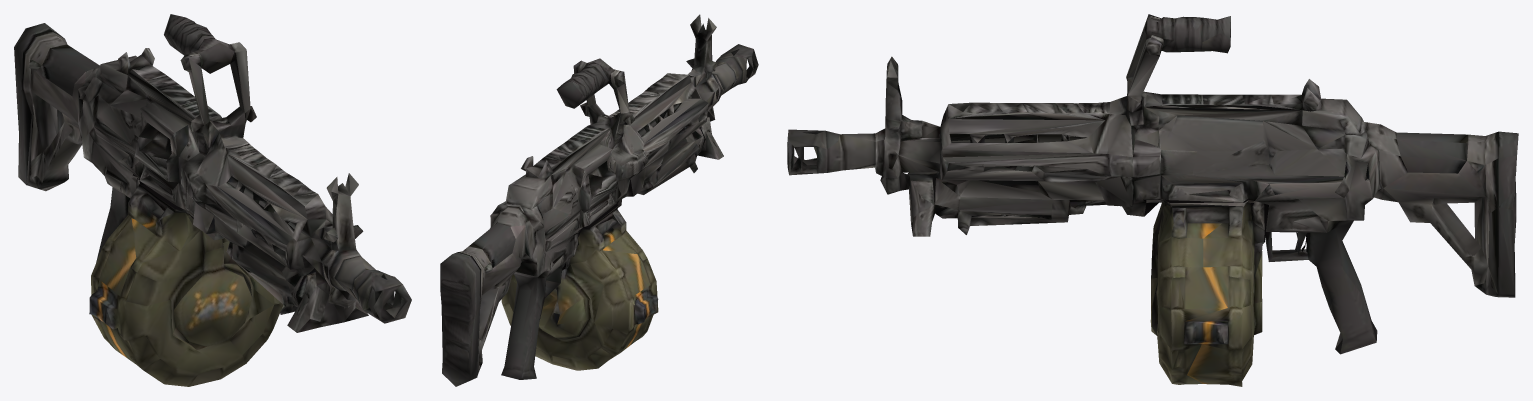
Rendered from wpn_lmg_bastion_tp.glb.
3 views of the same model, side by side, from view 1: azimuth 30°, elevation 25°; view 2: azimuth 150°, elevation 25°; view 3: azimuth 270°, elevation 25° (orthographic). The views are drawn at different scales.
Parts seen in each view (by area): view 1: body, mag; view 2: body, mag; view 3: body, mag.
Boxes of the visible parts, x1=… form: body: x1=14, y1=14, x2=411, y2=332; mag: x1=89, y1=174, x2=282, y2=386; body: x1=440, y1=14, x2=758, y2=386; mag: x1=501, y1=201, x2=658, y2=370; body: x1=787, y1=14, x2=1518, y2=354; mag: x1=1146, y1=199, x2=1264, y2=386.
Bounding box in the file's own units: 0.3025 × 0.5605 × 1.05.
1 material, 1 textured.
